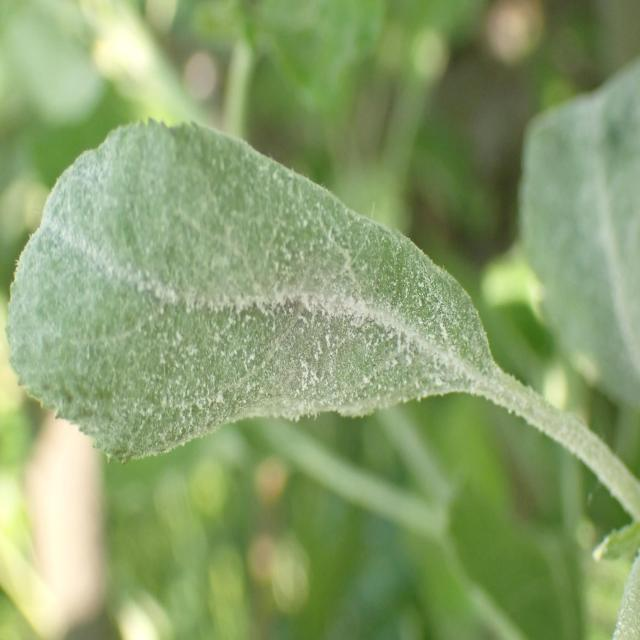Powdery_mildew: (13, 94, 504, 524)
